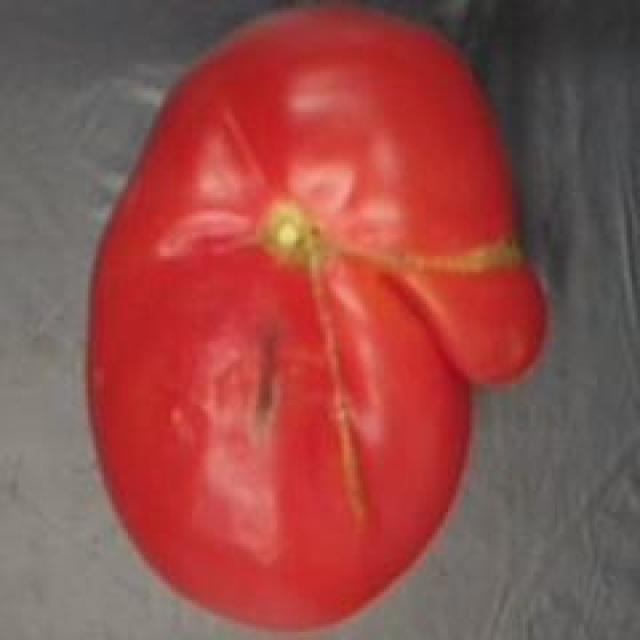overripe tomato: (80, 2, 570, 640)
